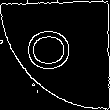O_E: (29, 33, 81, 77)
